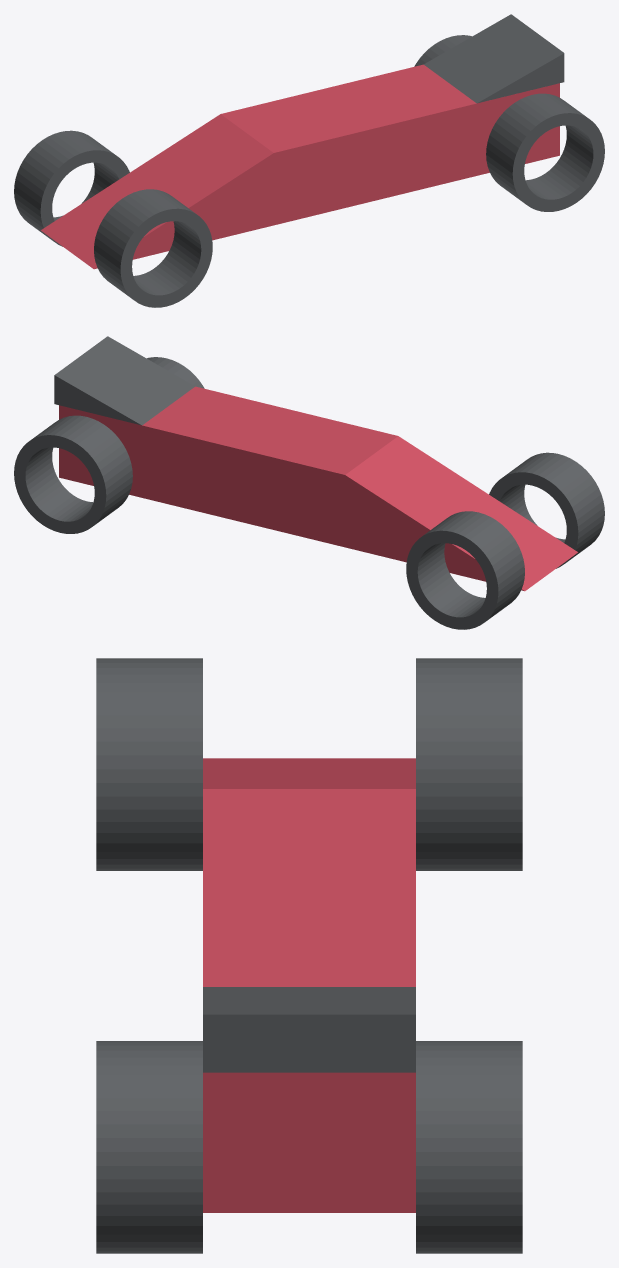
Rendered from Car.glb.
3 renders of one model, top to bottom at view 1: azimuth 30°, elevation 25°; view 2: azimuth 150°, elevation 25°; view 3: azimuth 270°, elevation 25°, orthographic. The views are drawn at different scales.
Visible parts, largest first — view 1: Mesh_Mesh_head_geo.001_lambert2SG.001; view 2: Mesh_Mesh_head_geo.001_lambert2SG.001; view 3: Mesh_Mesh_head_geo.001_lambert2SG.001.
Boxes of the visible parts, box(x1,y1,x2,y2) form: Mesh_Mesh_head_geo.001_lambert2SG.001: box(14, 14, 604, 307); Mesh_Mesh_head_geo.001_lambert2SG.001: box(14, 336, 604, 629); Mesh_Mesh_head_geo.001_lambert2SG.001: box(96, 658, 522, 1253).
Size of the model in its own units: 0.105 by 0.027 by 0.04.
